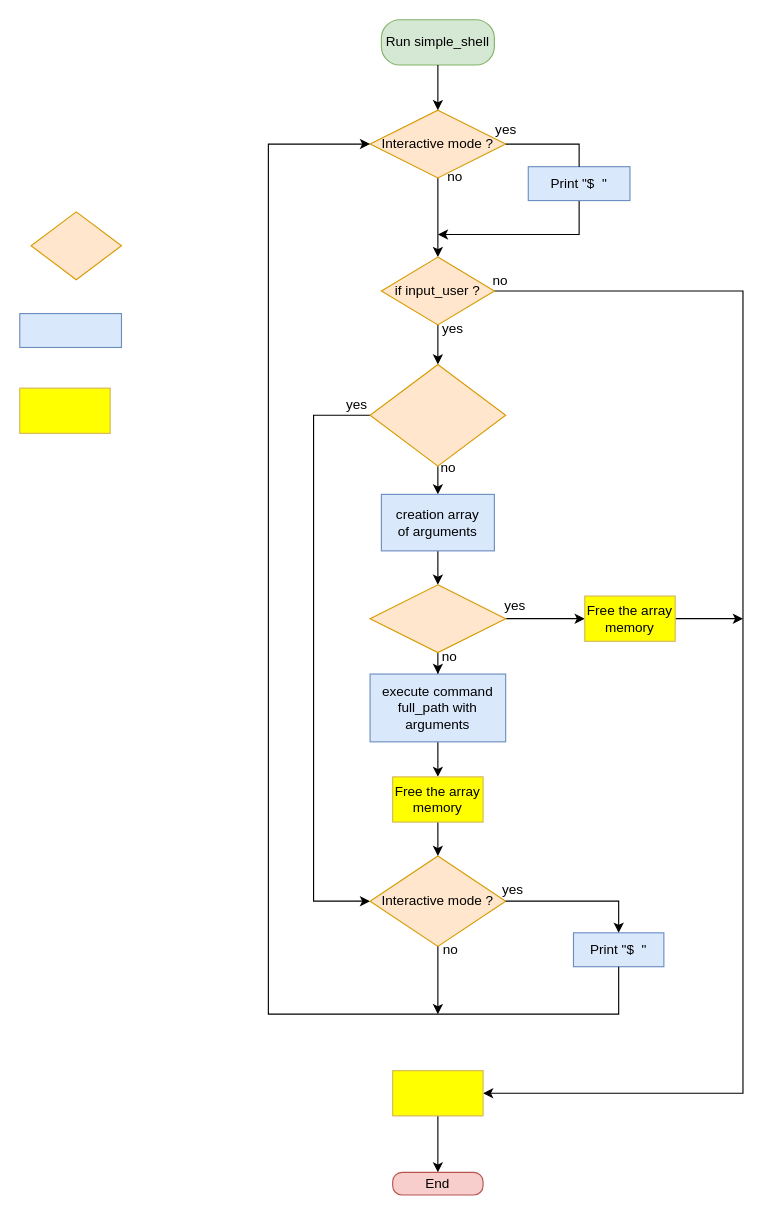
This 772x1215 diagram has some shape labels left out. Each missing label, with the centre of its shape:
Condition: (x=75, y=245)
Free input_user: (x=437, y=1093)
Free memory: (x=64, y=410)
If Arg[0] = "exit": (x=437, y=618)
Input_user empty ?: (x=437, y=414)
Opration: (x=70, y=329)
